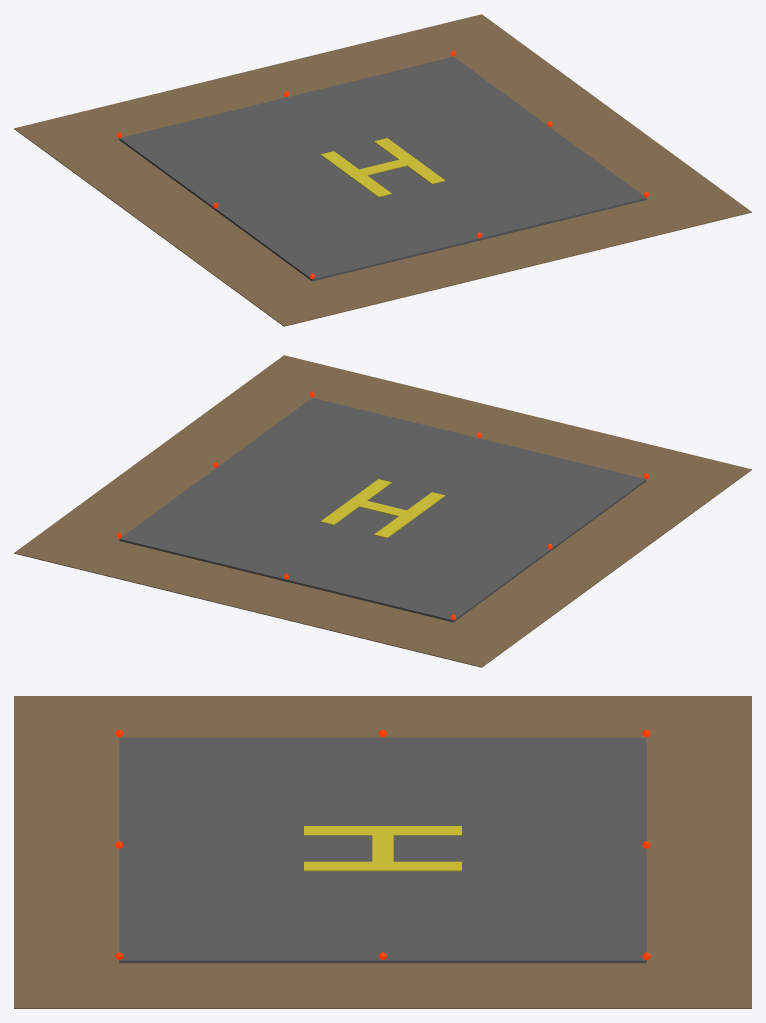
Rendered from helipad.glb.
The picture shows the model from 3 angles, top to bottom: view 1: azimuth 30°, elevation 25°; view 2: azimuth 150°, elevation 25°; view 3: azimuth 270°, elevation 25°; orthographic projection. The views are drawn at different scales.
Visible parts, largest first — view 1: Mesh_Pad, Mesh_DirtSurround, Mesh_H_RightBar, Mesh_H_LeftBar; view 2: Mesh_Pad, Mesh_DirtSurround, Mesh_H_RightBar, Mesh_H_LeftBar; view 3: Mesh_Pad, Mesh_DirtSurround, Mesh_H_RightBar, Mesh_H_LeftBar, Mesh_H_Crossbar.
Boxes of the visible parts, bbox=[...] form: Mesh_Pad: bbox=[119, 56, 646, 281]; Mesh_DirtSurround: bbox=[14, 14, 751, 326]; Mesh_H_RightBar: bbox=[374, 138, 445, 184]; Mesh_H_LeftBar: bbox=[320, 151, 391, 197]; Mesh_Pad: bbox=[119, 397, 646, 622]; Mesh_DirtSurround: bbox=[14, 355, 751, 667]; Mesh_H_RightBar: bbox=[320, 479, 391, 525]; Mesh_H_LeftBar: bbox=[374, 492, 445, 538]; Mesh_Pad: bbox=[119, 737, 646, 963]; Mesh_DirtSurround: bbox=[14, 696, 751, 1008]; Mesh_H_RightBar: bbox=[304, 861, 461, 871]; Mesh_H_LeftBar: bbox=[304, 826, 461, 835]; Mesh_H_Crossbar: bbox=[372, 826, 393, 871].
Bounding box in the file's own units: 14 × 0.25 × 14.
